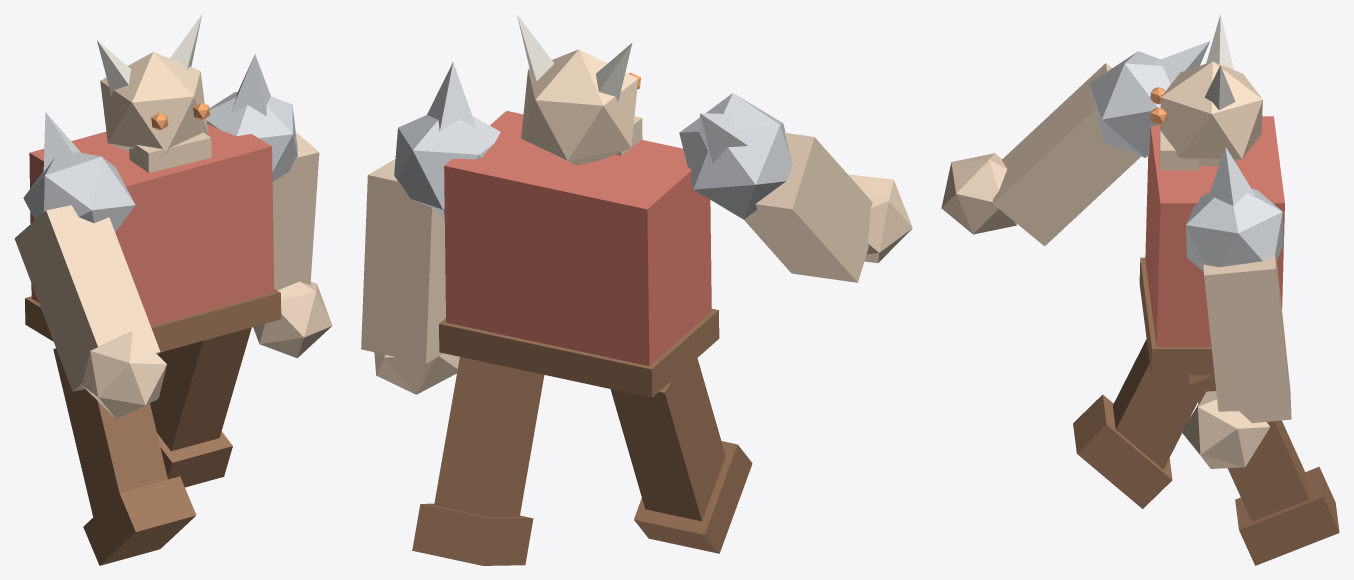
Rendered from npcpose_brute_walk_04.glb.
The picture shows the model from 3 angles, left to right: view 1: azimuth 30°, elevation 25°; view 2: azimuth 150°, elevation 25°; view 3: azimuth 270°, elevation 25°; orthographic projection. The views are drawn at different scales.
Visible parts, largest first — view 1: npcpose; view 2: npcpose; view 3: npcpose.
Part boxes in pixels (box(x1,y1,x2,y2)): npcpose: box(14, 15, 332, 565); npcpose: box(361, 14, 912, 565); npcpose: box(941, 14, 1339, 565).
Bounding box in the file's own units: 1.43 × 1.87 × 1.39.
